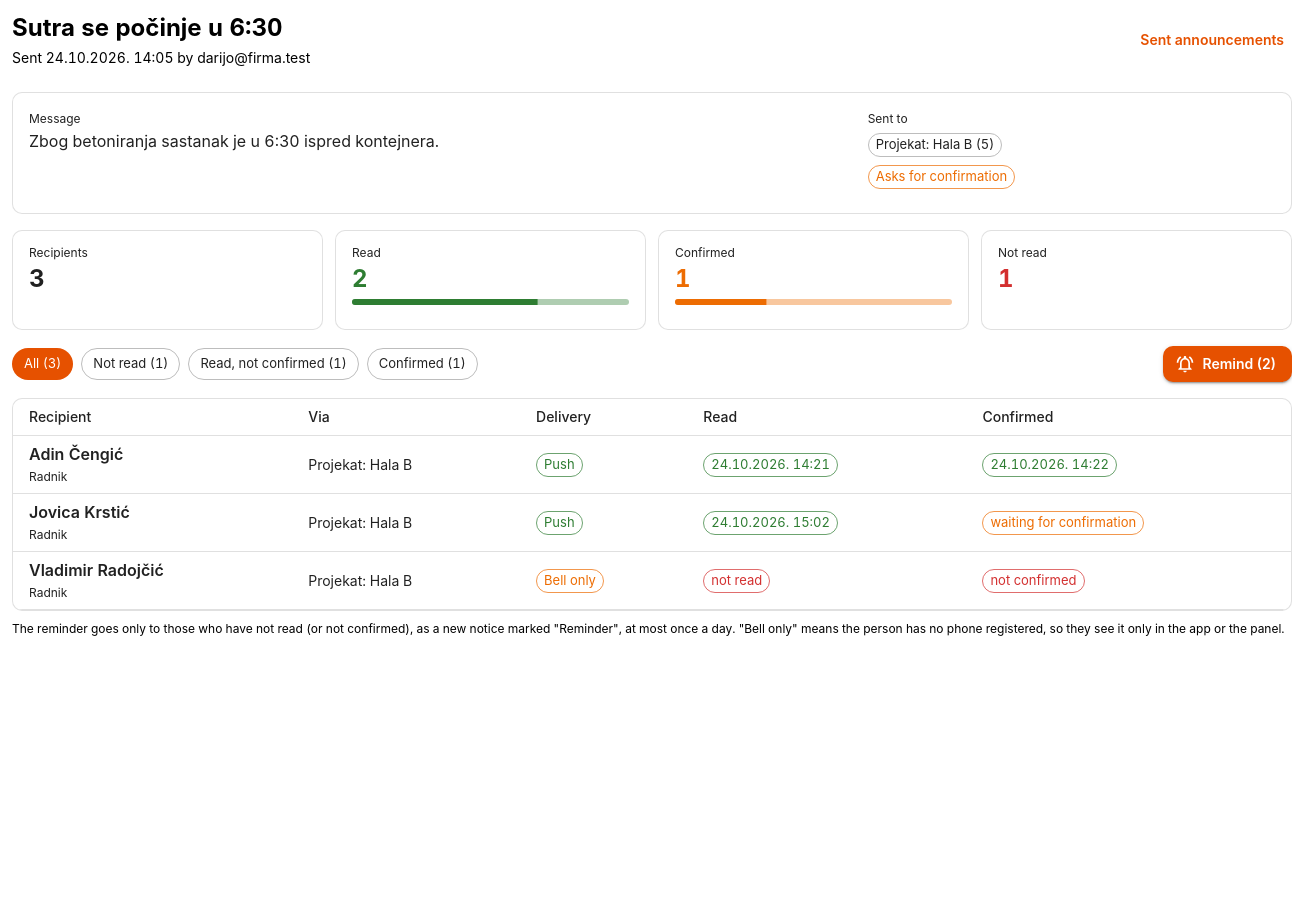
Test: BroadcastDetailPage › reminds those who have not read or not confirmed, and says how many
Expected: the text "Adin Čengić" is shown, [29,444,123,464]
Note: One has not read and one has read without confirming.
What coordinates should you click on to do the following:
click the button "Remind (2)"
I would click on:
 (1227, 364)
Its box is [1162,346,1292,382].
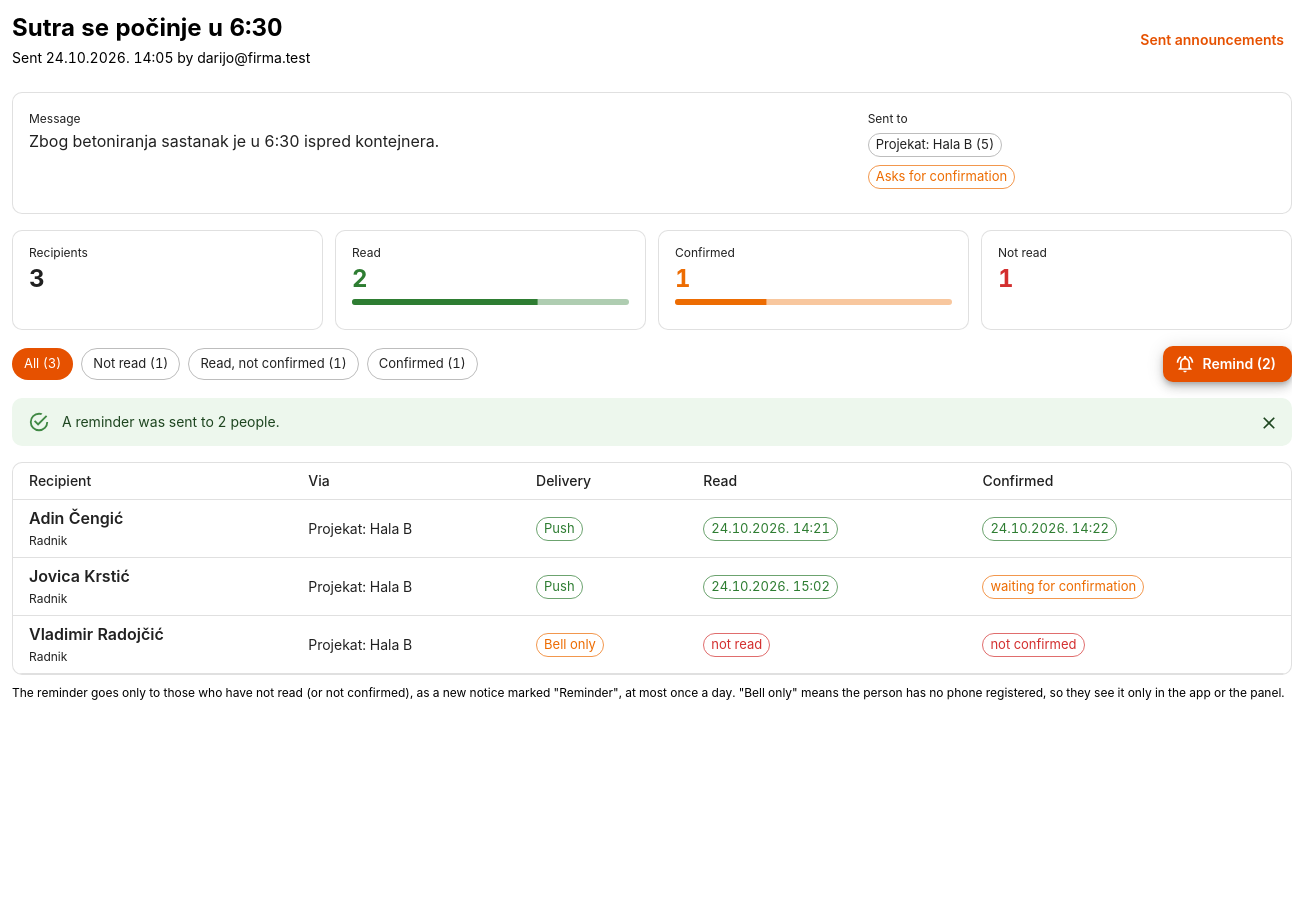
Expected: the text "Projekat: Hala B (5)" is shown, [869,135,1001,155]
Result: the text "A reminder was sent to 2 people." is shown at [62,413,279,430]
